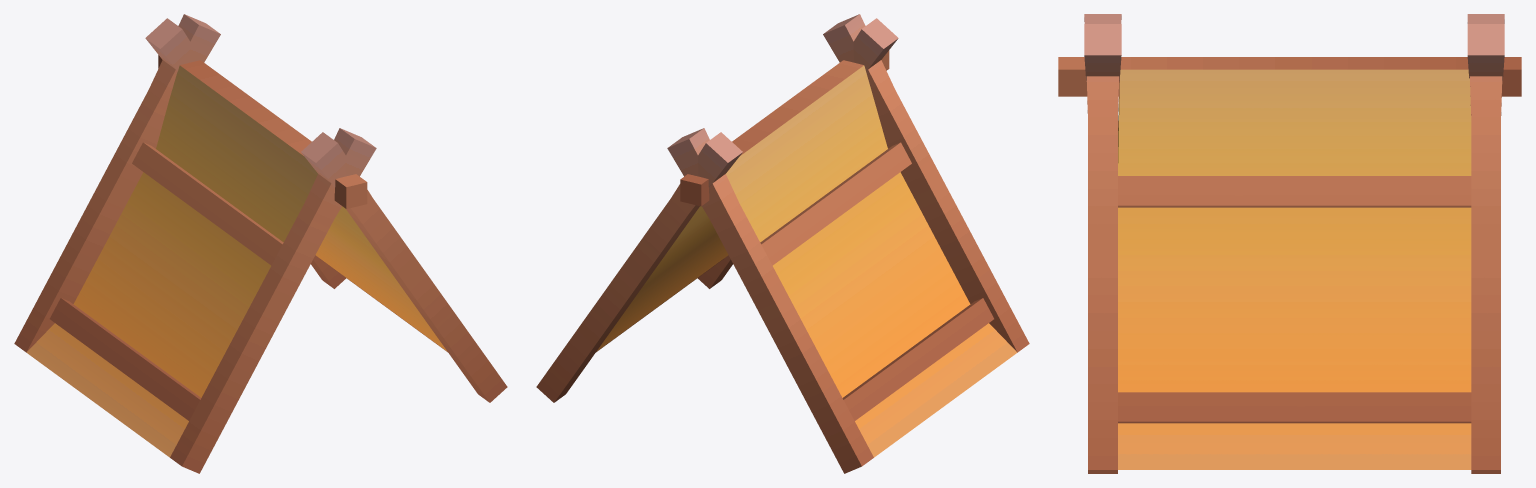
The model's file is tent-canvas.glb.
3 renders of one model, left to right at view 1: azimuth 30°, elevation 25°; view 2: azimuth 150°, elevation 25°; view 3: azimuth 270°, elevation 25°, orthographic. The views are drawn at different scales.
Parts seen in each view (by area): view 1: tent-canvas; view 2: tent-canvas; view 3: tent-canvas.
Boxes of the visible parts, left/top/right/bottom form: tent-canvas: left=14, top=14, right=507, bottom=473; tent-canvas: left=536, top=14, right=1029, bottom=473; tent-canvas: left=1058, top=14, right=1521, bottom=473.
Bounding box in the file's own units: 0.5608 × 0.4914 × 0.561.
1 material, 1 textured.
